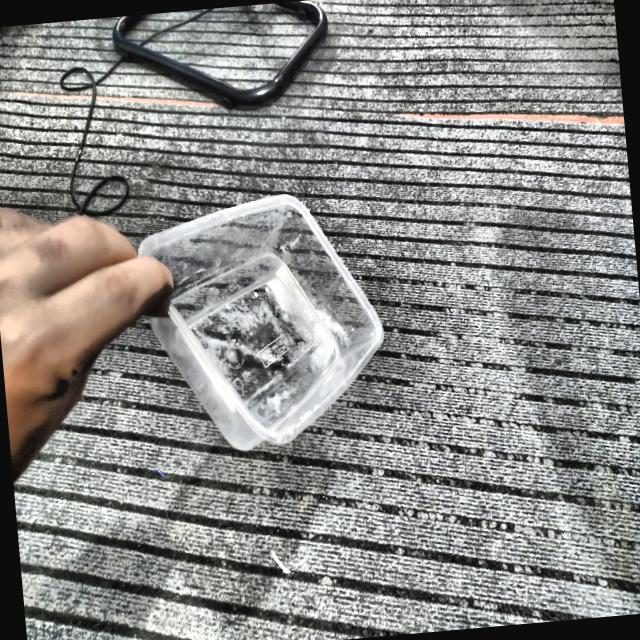plastic container: (138, 194, 383, 449)
